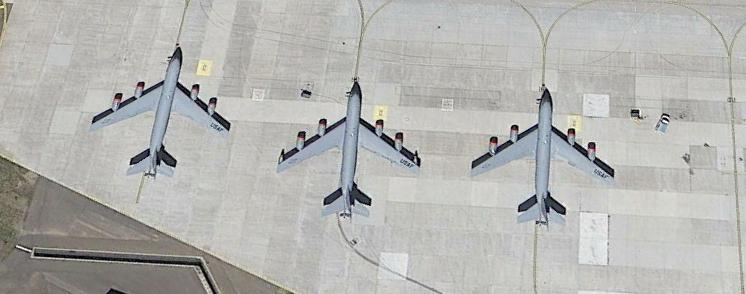KC-135: (272, 82, 418, 223), (474, 85, 619, 226), (95, 47, 226, 176)
